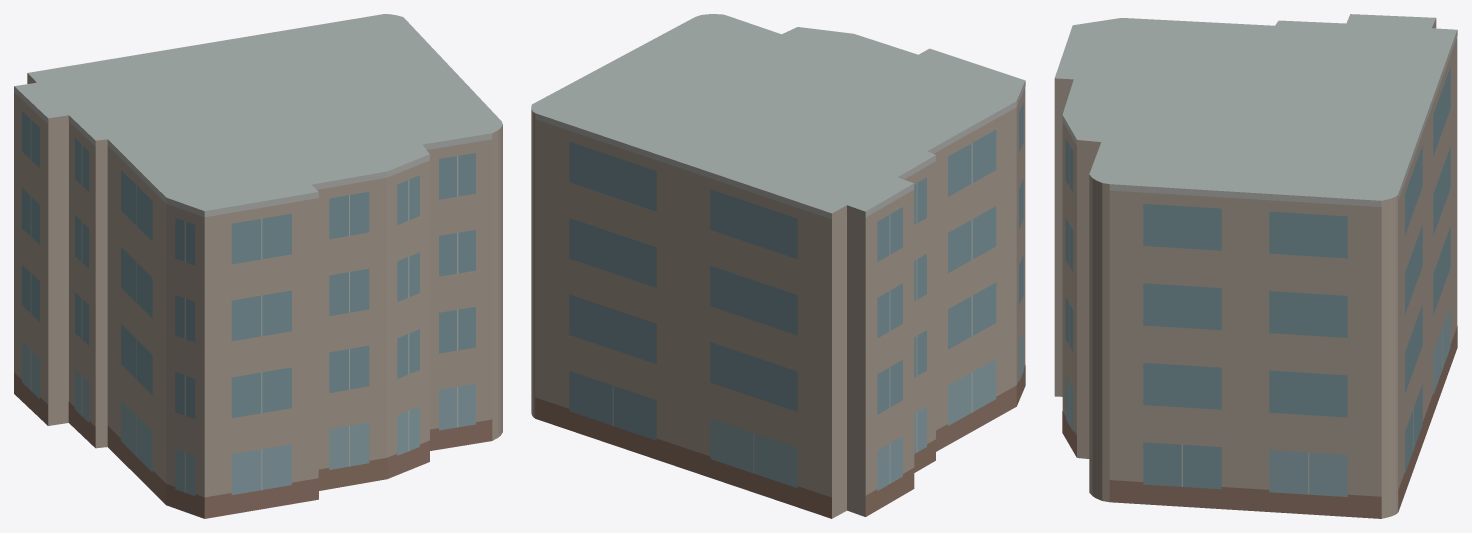
The model's file is survey-upis-32896818.glb.
3 renders of one model, left to right at view 1: azimuth 30°, elevation 25°; view 2: azimuth 150°, elevation 25°; view 3: azimuth 270°, elevation 25°, orthographic. The views are drawn at different scales.
Visible parts, largest first — view 1: survey-upis-32896818.tmp; view 2: survey-upis-32896818.tmp; view 3: survey-upis-32896818.tmp.
Part boxes in pixels (x1,y1,x2,y2): survey-upis-32896818.tmp: [14, 14, 502, 518]; survey-upis-32896818.tmp: [531, 14, 1025, 518]; survey-upis-32896818.tmp: [1054, 14, 1457, 518].
Bounding box in the file's own units: 15.5 × 12.3 × 14.13.
